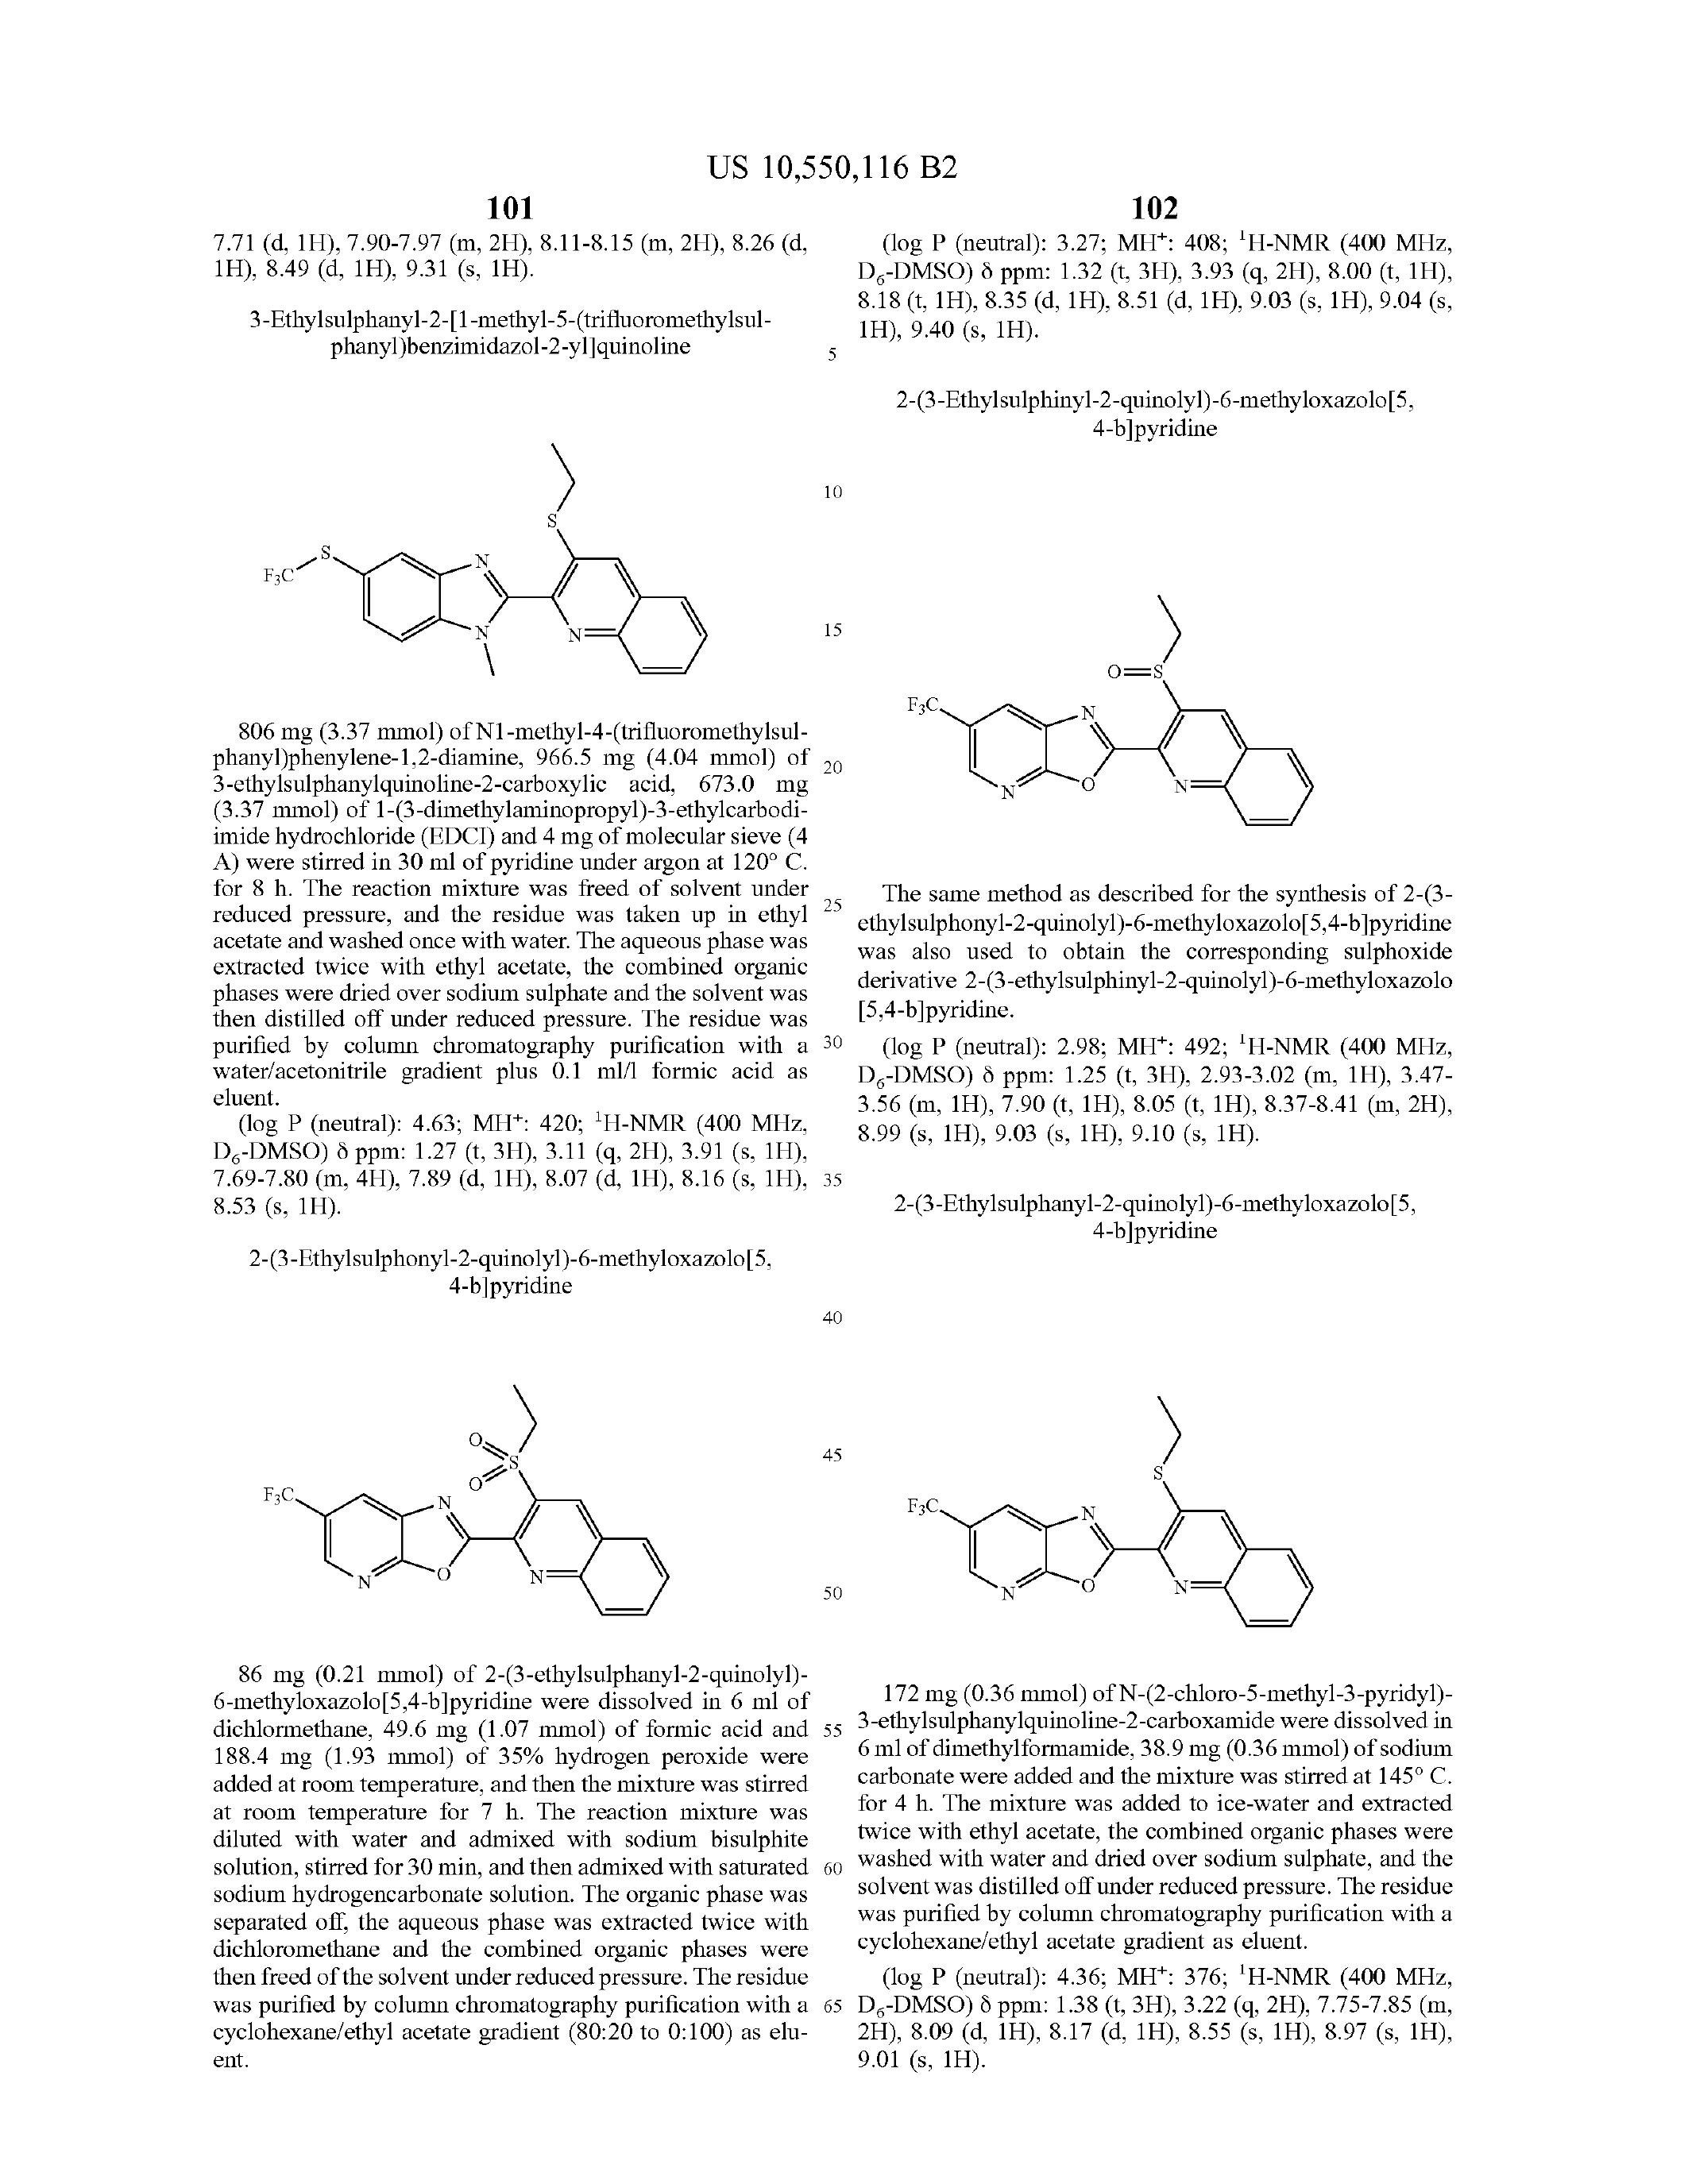intermediates: (876, 523, 1415, 854), (225, 1386, 761, 1658)
relevant-structures: (176, 378, 803, 718), (888, 1377, 1408, 1652)
